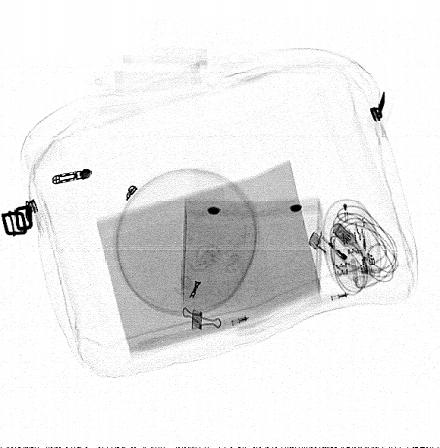Lighter: (308, 228, 360, 281)
